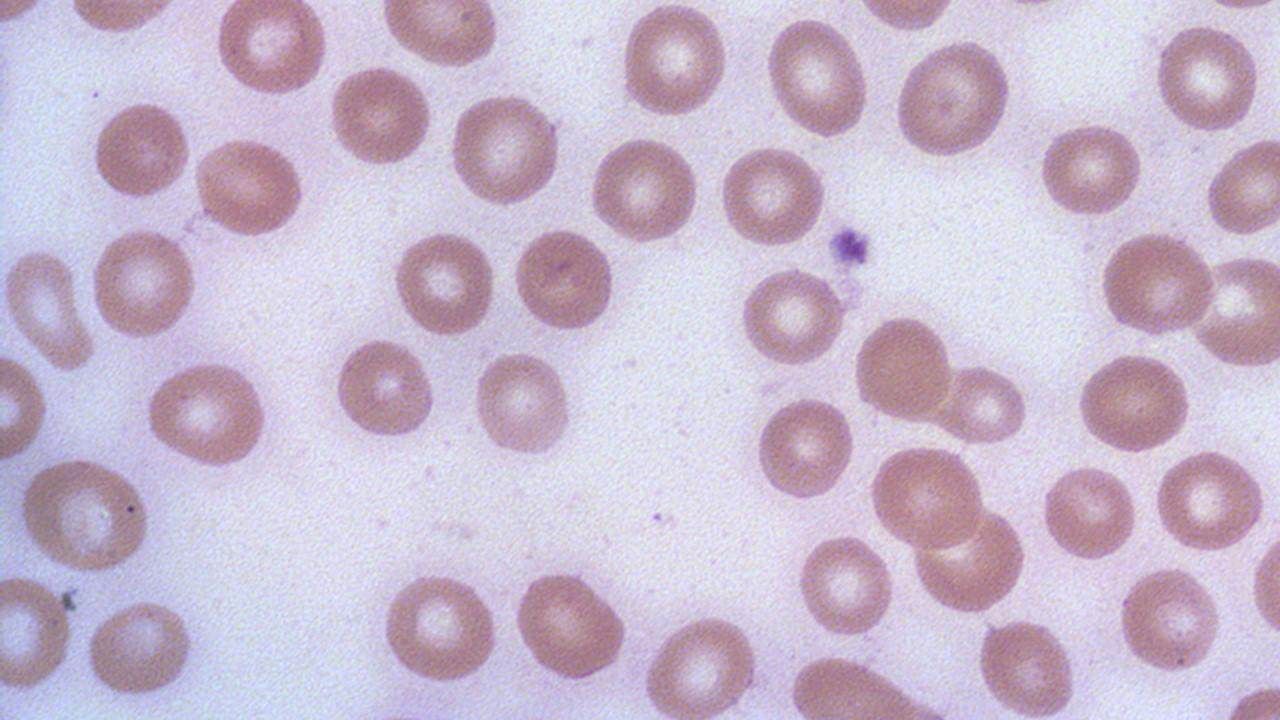Platelets: (826, 220, 873, 271)
RBC: (17, 454, 151, 575), (890, 37, 1014, 163), (376, 568, 503, 686), (142, 358, 274, 470), (444, 90, 565, 210), (761, 13, 873, 142), (509, 568, 632, 684), (616, 1, 732, 121), (87, 224, 203, 343), (1095, 230, 1219, 338), (586, 132, 703, 245), (912, 502, 1030, 614), (866, 442, 987, 551), (641, 610, 763, 718), (1150, 22, 1264, 136), (0, 244, 99, 373), (1074, 350, 1194, 455), (389, 227, 501, 339), (716, 141, 831, 250), (83, 594, 199, 702), (1150, 448, 1268, 554), (190, 135, 311, 238), (1114, 564, 1226, 675), (470, 347, 576, 461), (211, 1, 332, 100), (509, 226, 620, 333), (850, 312, 954, 426), (735, 265, 850, 368), (330, 334, 439, 442), (327, 64, 436, 170), (752, 393, 857, 503), (793, 531, 898, 640), (87, 97, 194, 202), (974, 615, 1084, 716), (1038, 120, 1146, 221), (1186, 252, 1280, 368), (1039, 460, 1141, 564), (785, 652, 926, 718), (0, 570, 75, 694), (376, 2, 504, 70), (934, 360, 1032, 446), (1202, 132, 1280, 240), (1, 350, 51, 466), (61, 1, 187, 36), (850, 0, 965, 35), (1249, 530, 1279, 644), (1223, 680, 1279, 718)
